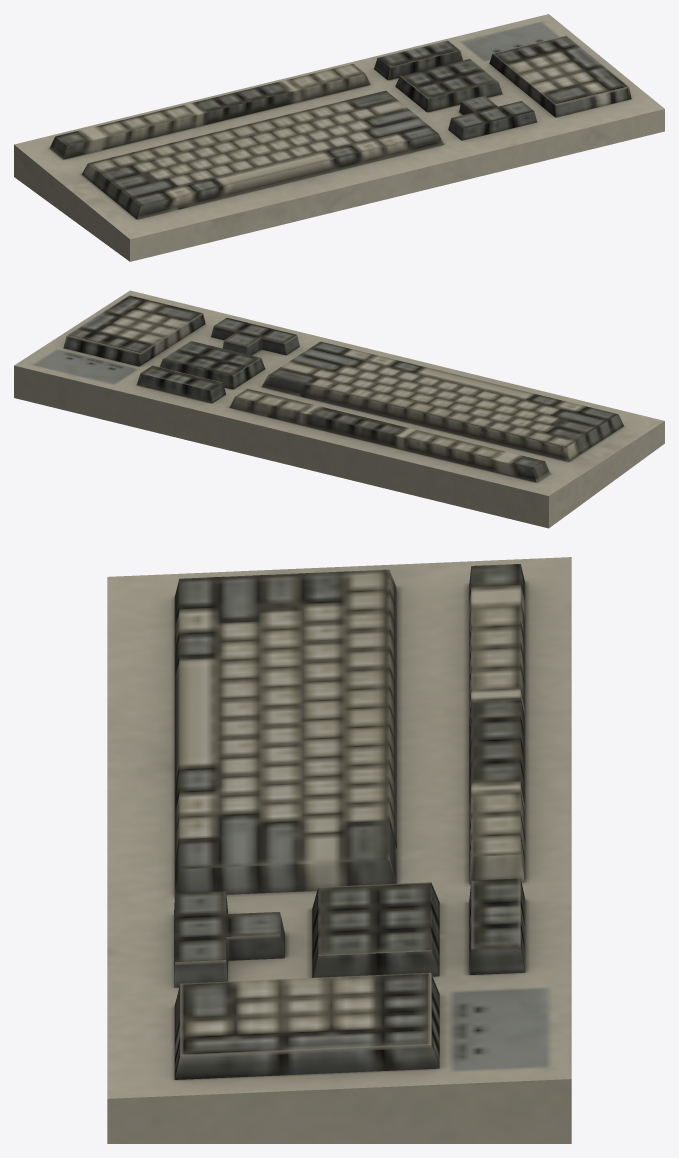
File: Computer Keyboard.fbx
3 renders of one model, top to bottom at view 1: azimuth 30°, elevation 25°; view 2: azimuth 150°, elevation 25°; view 3: azimuth 270°, elevation 25°, orthographic. The views are drawn at different scales.
Visible parts, largest first — view 1: PC Keyboard; view 2: PC Keyboard; view 3: PC Keyboard.
Boxes of the visible parts, x1,y1,x2,y2 form: PC Keyboard: [14, 14, 664, 261]; PC Keyboard: [14, 290, 664, 528]; PC Keyboard: [107, 557, 571, 1143].
Bounding box in the file's own units: 64.93 × 4.98 × 24.42.
